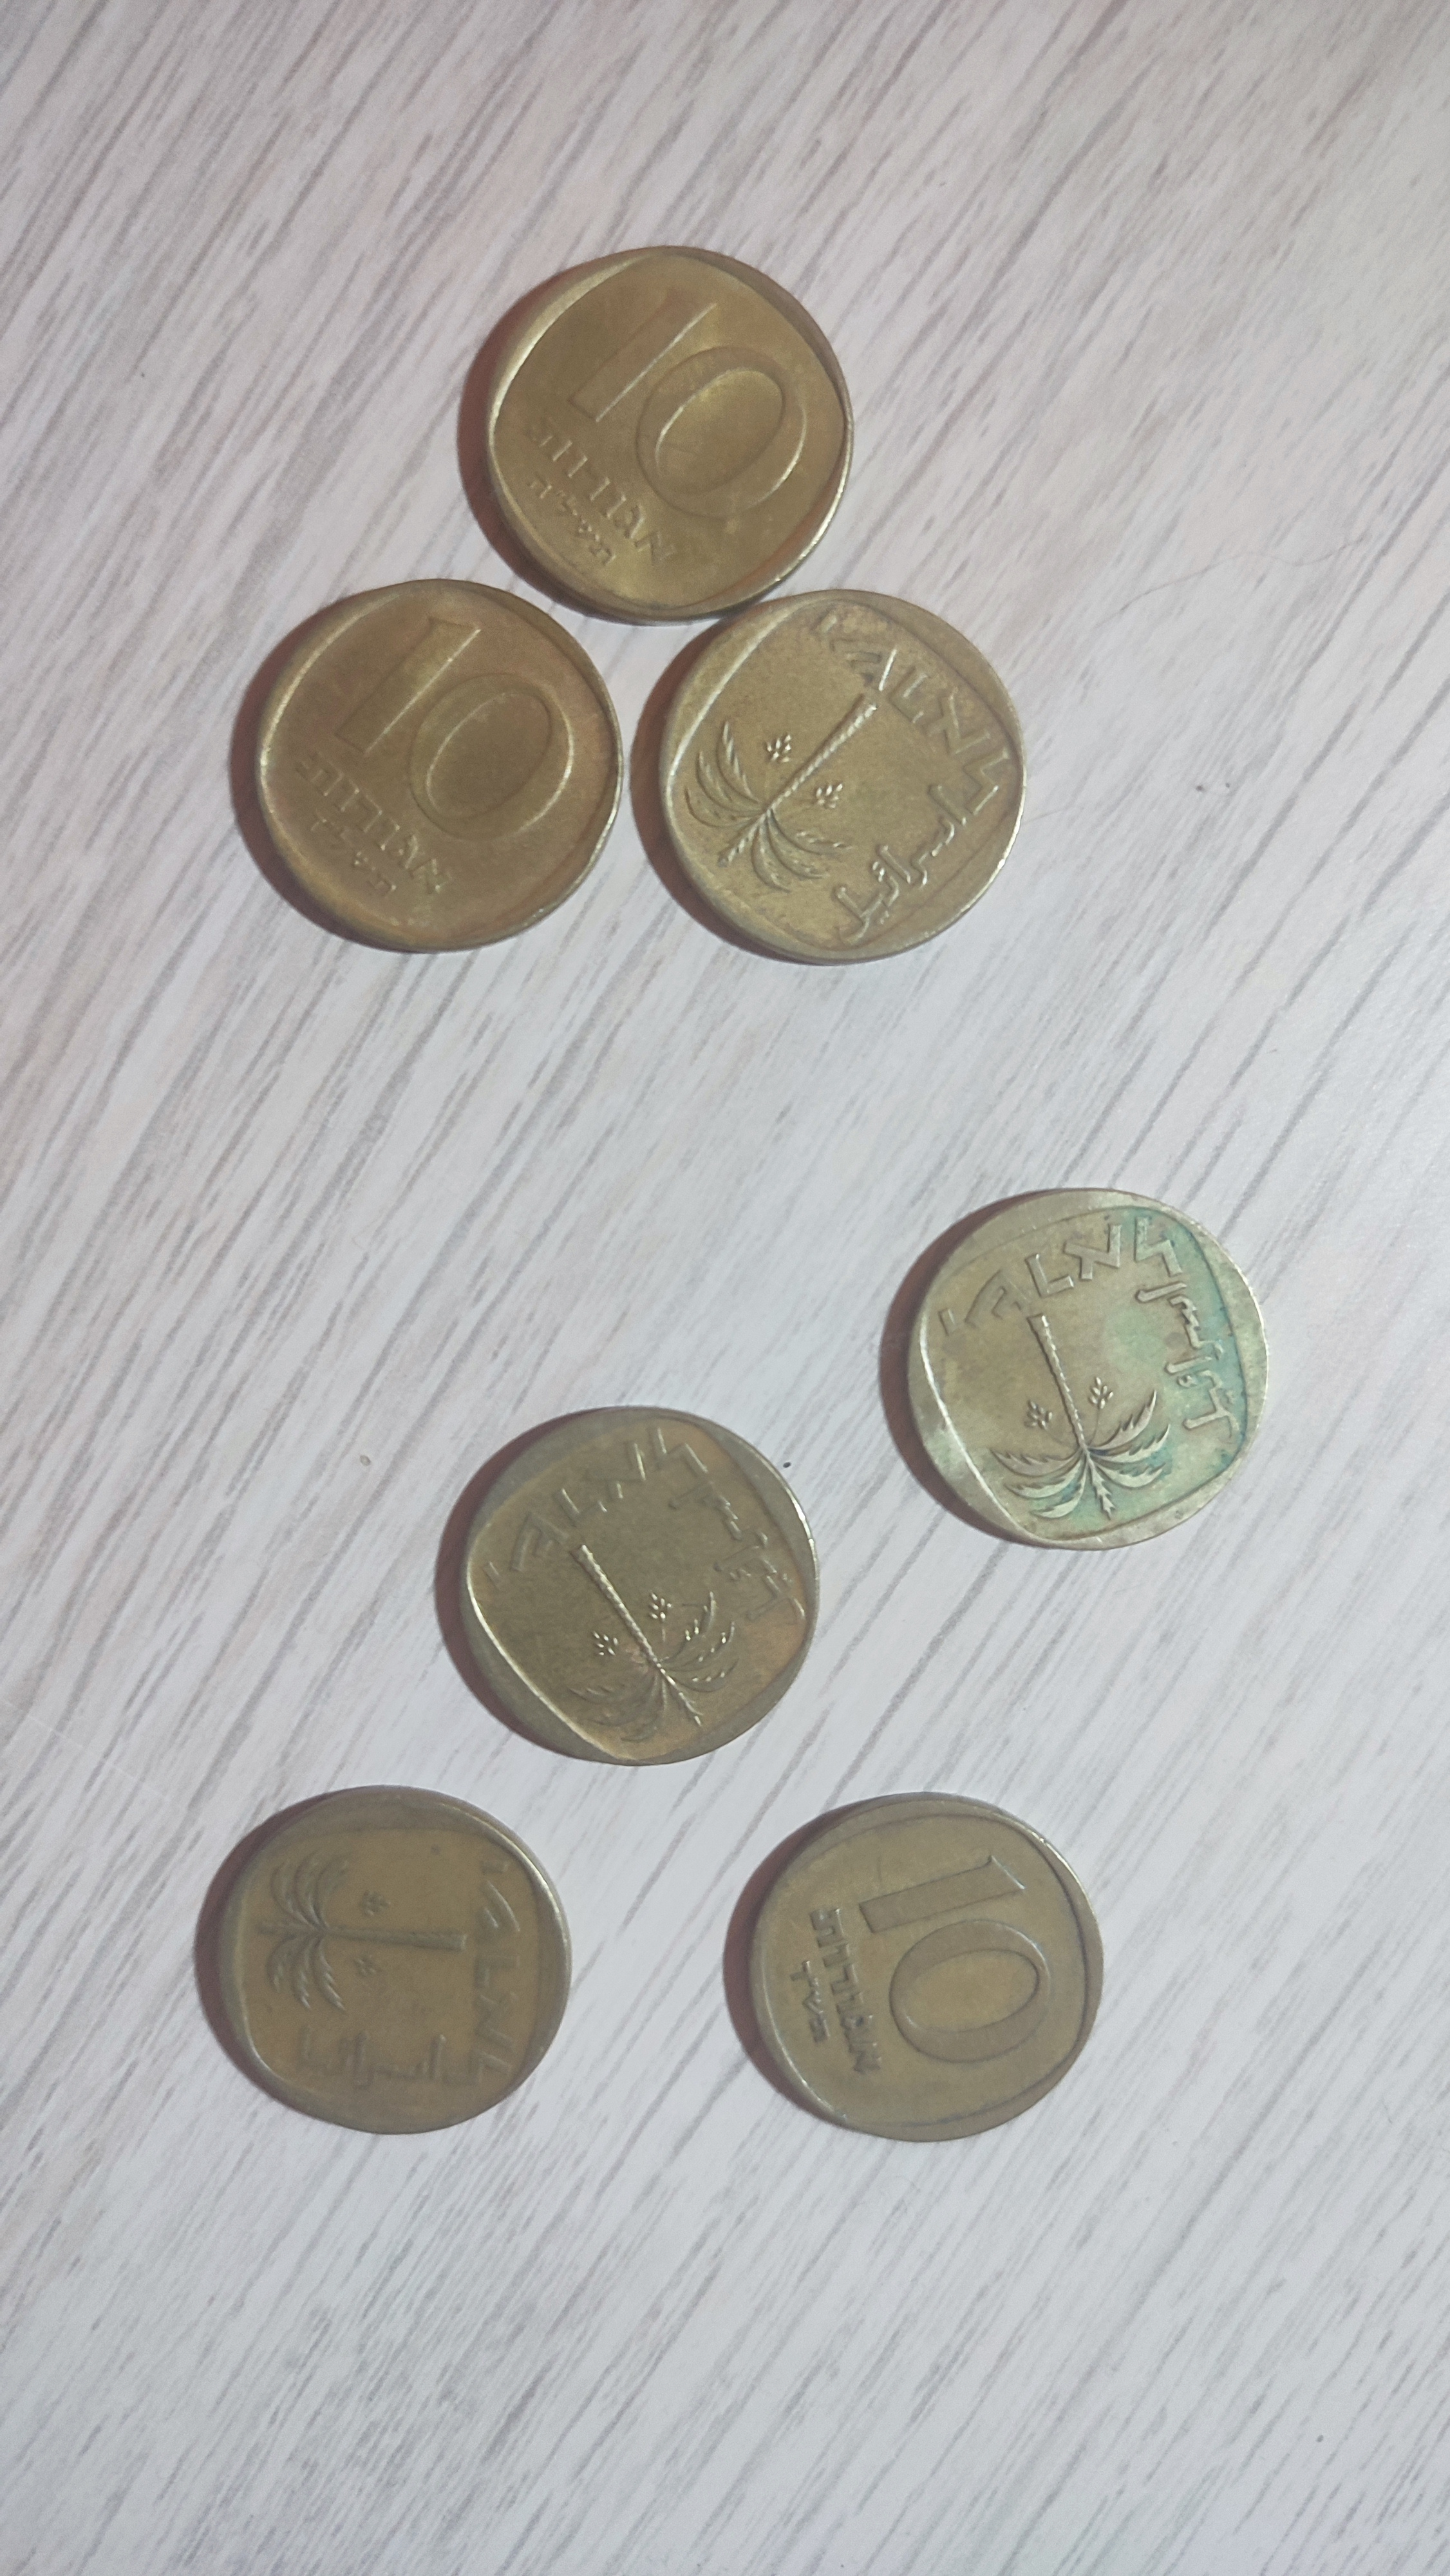10 old agora brown: (481, 246, 854, 623), (658, 589, 1026, 968), (253, 577, 621, 954), (905, 1189, 1270, 1553), (456, 1405, 822, 1767), (217, 1785, 575, 2141), (748, 1790, 1103, 2143)
